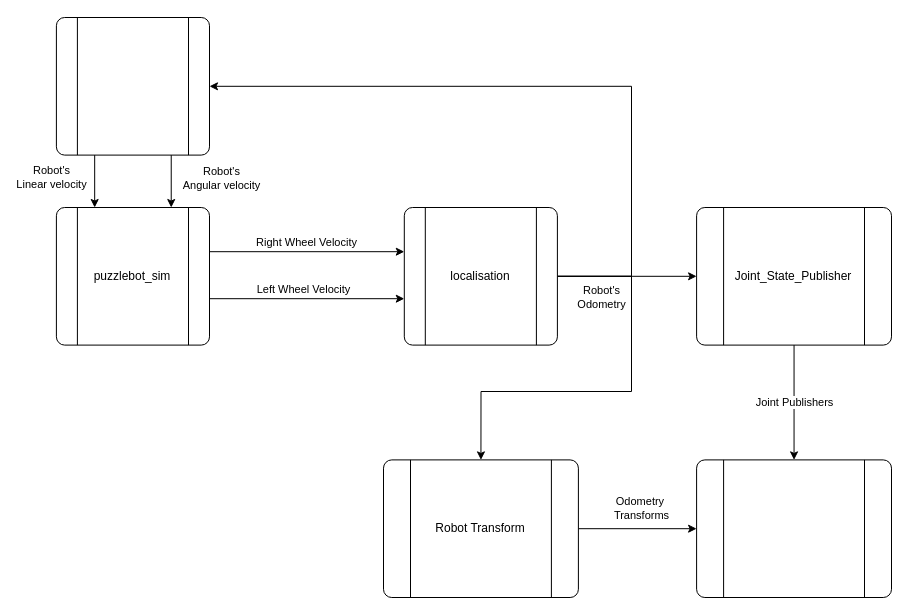
Image size: 910x615. Some labels were removed from this diagram. Each missing label, with the centre of its shape:
"controller" goes at (132,85).
"Robot State Publisher (rviz)" goes at (794,528).
